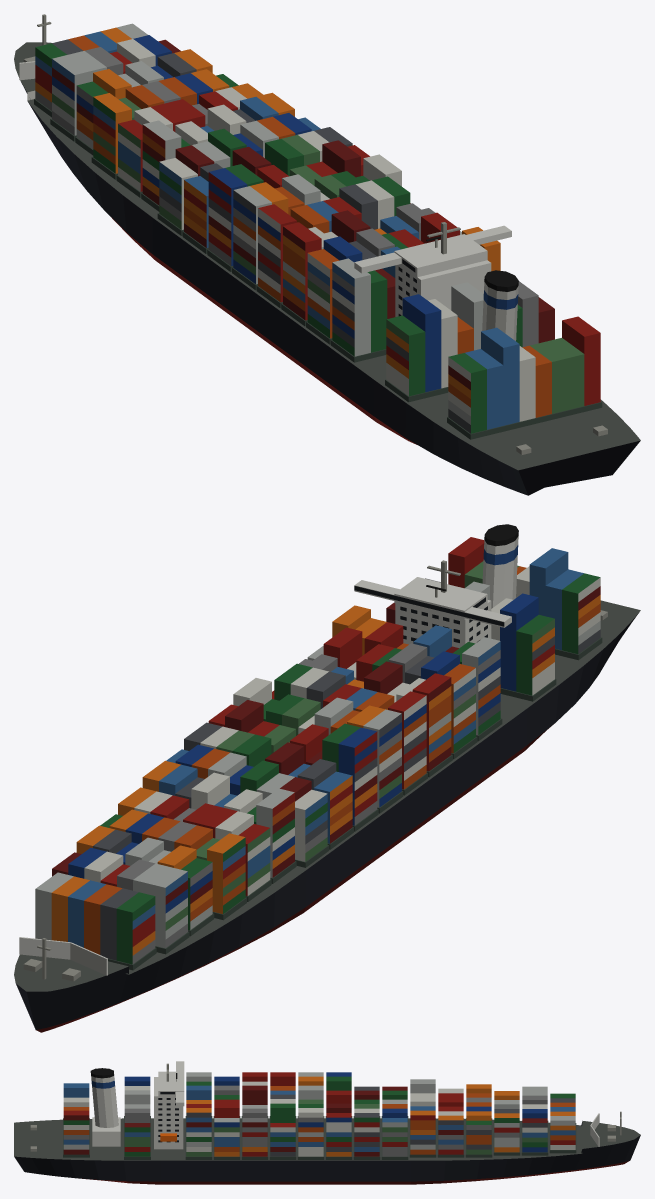
Rendered from ship_container.glb.
3 renders of one model, top to bottom at view 1: azimuth 30°, elevation 25°; view 2: azimuth 150°, elevation 25°; view 3: azimuth 270°, elevation 25°, orthographic. The views are drawn at different scales.
Parts seen in each view (by area): view 1: container_LOD0; view 2: container_LOD0; view 3: container_LOD0.
Part boxes in pixels (x1=…): container_LOD0: x1=14, y1=14, x2=640, y2=495; container_LOD0: x1=14, y1=524, x2=640, y2=1032; container_LOD0: x1=14, y1=1061, x2=640, y2=1184.
Size of what is drawn, in the model's own units: 48 by 52.8 by 300.
